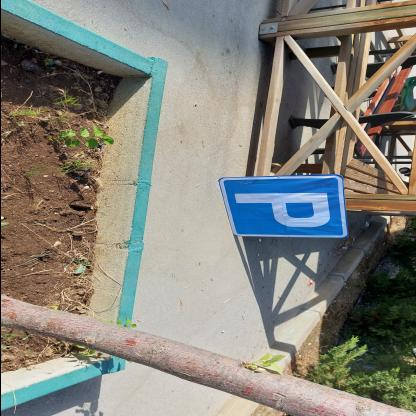Parking-Sign: (218, 176, 349, 240)
